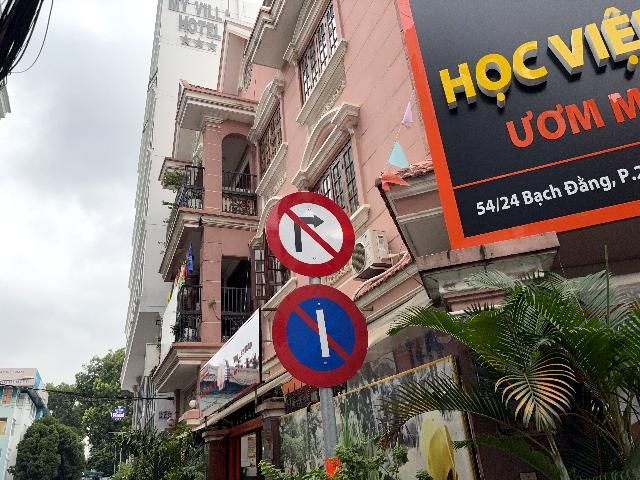cam-do-xe-ngay-le: (271, 283, 368, 388)
cam-re-phai: (265, 192, 355, 278)
